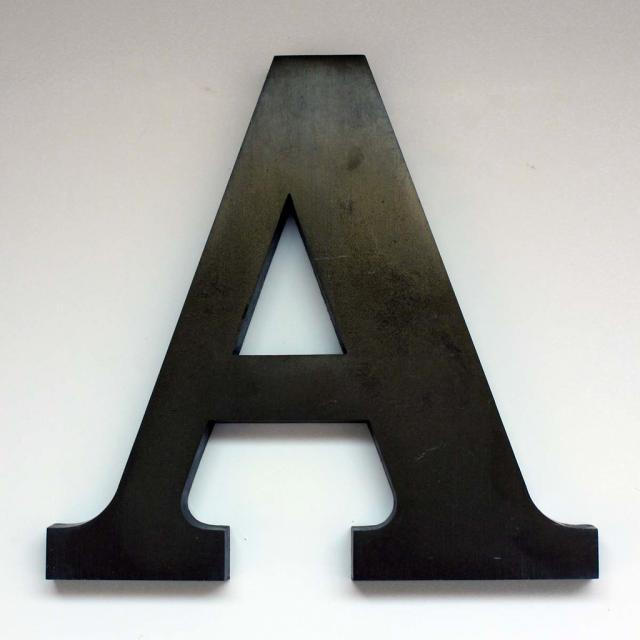A: (44, 23, 616, 607)
